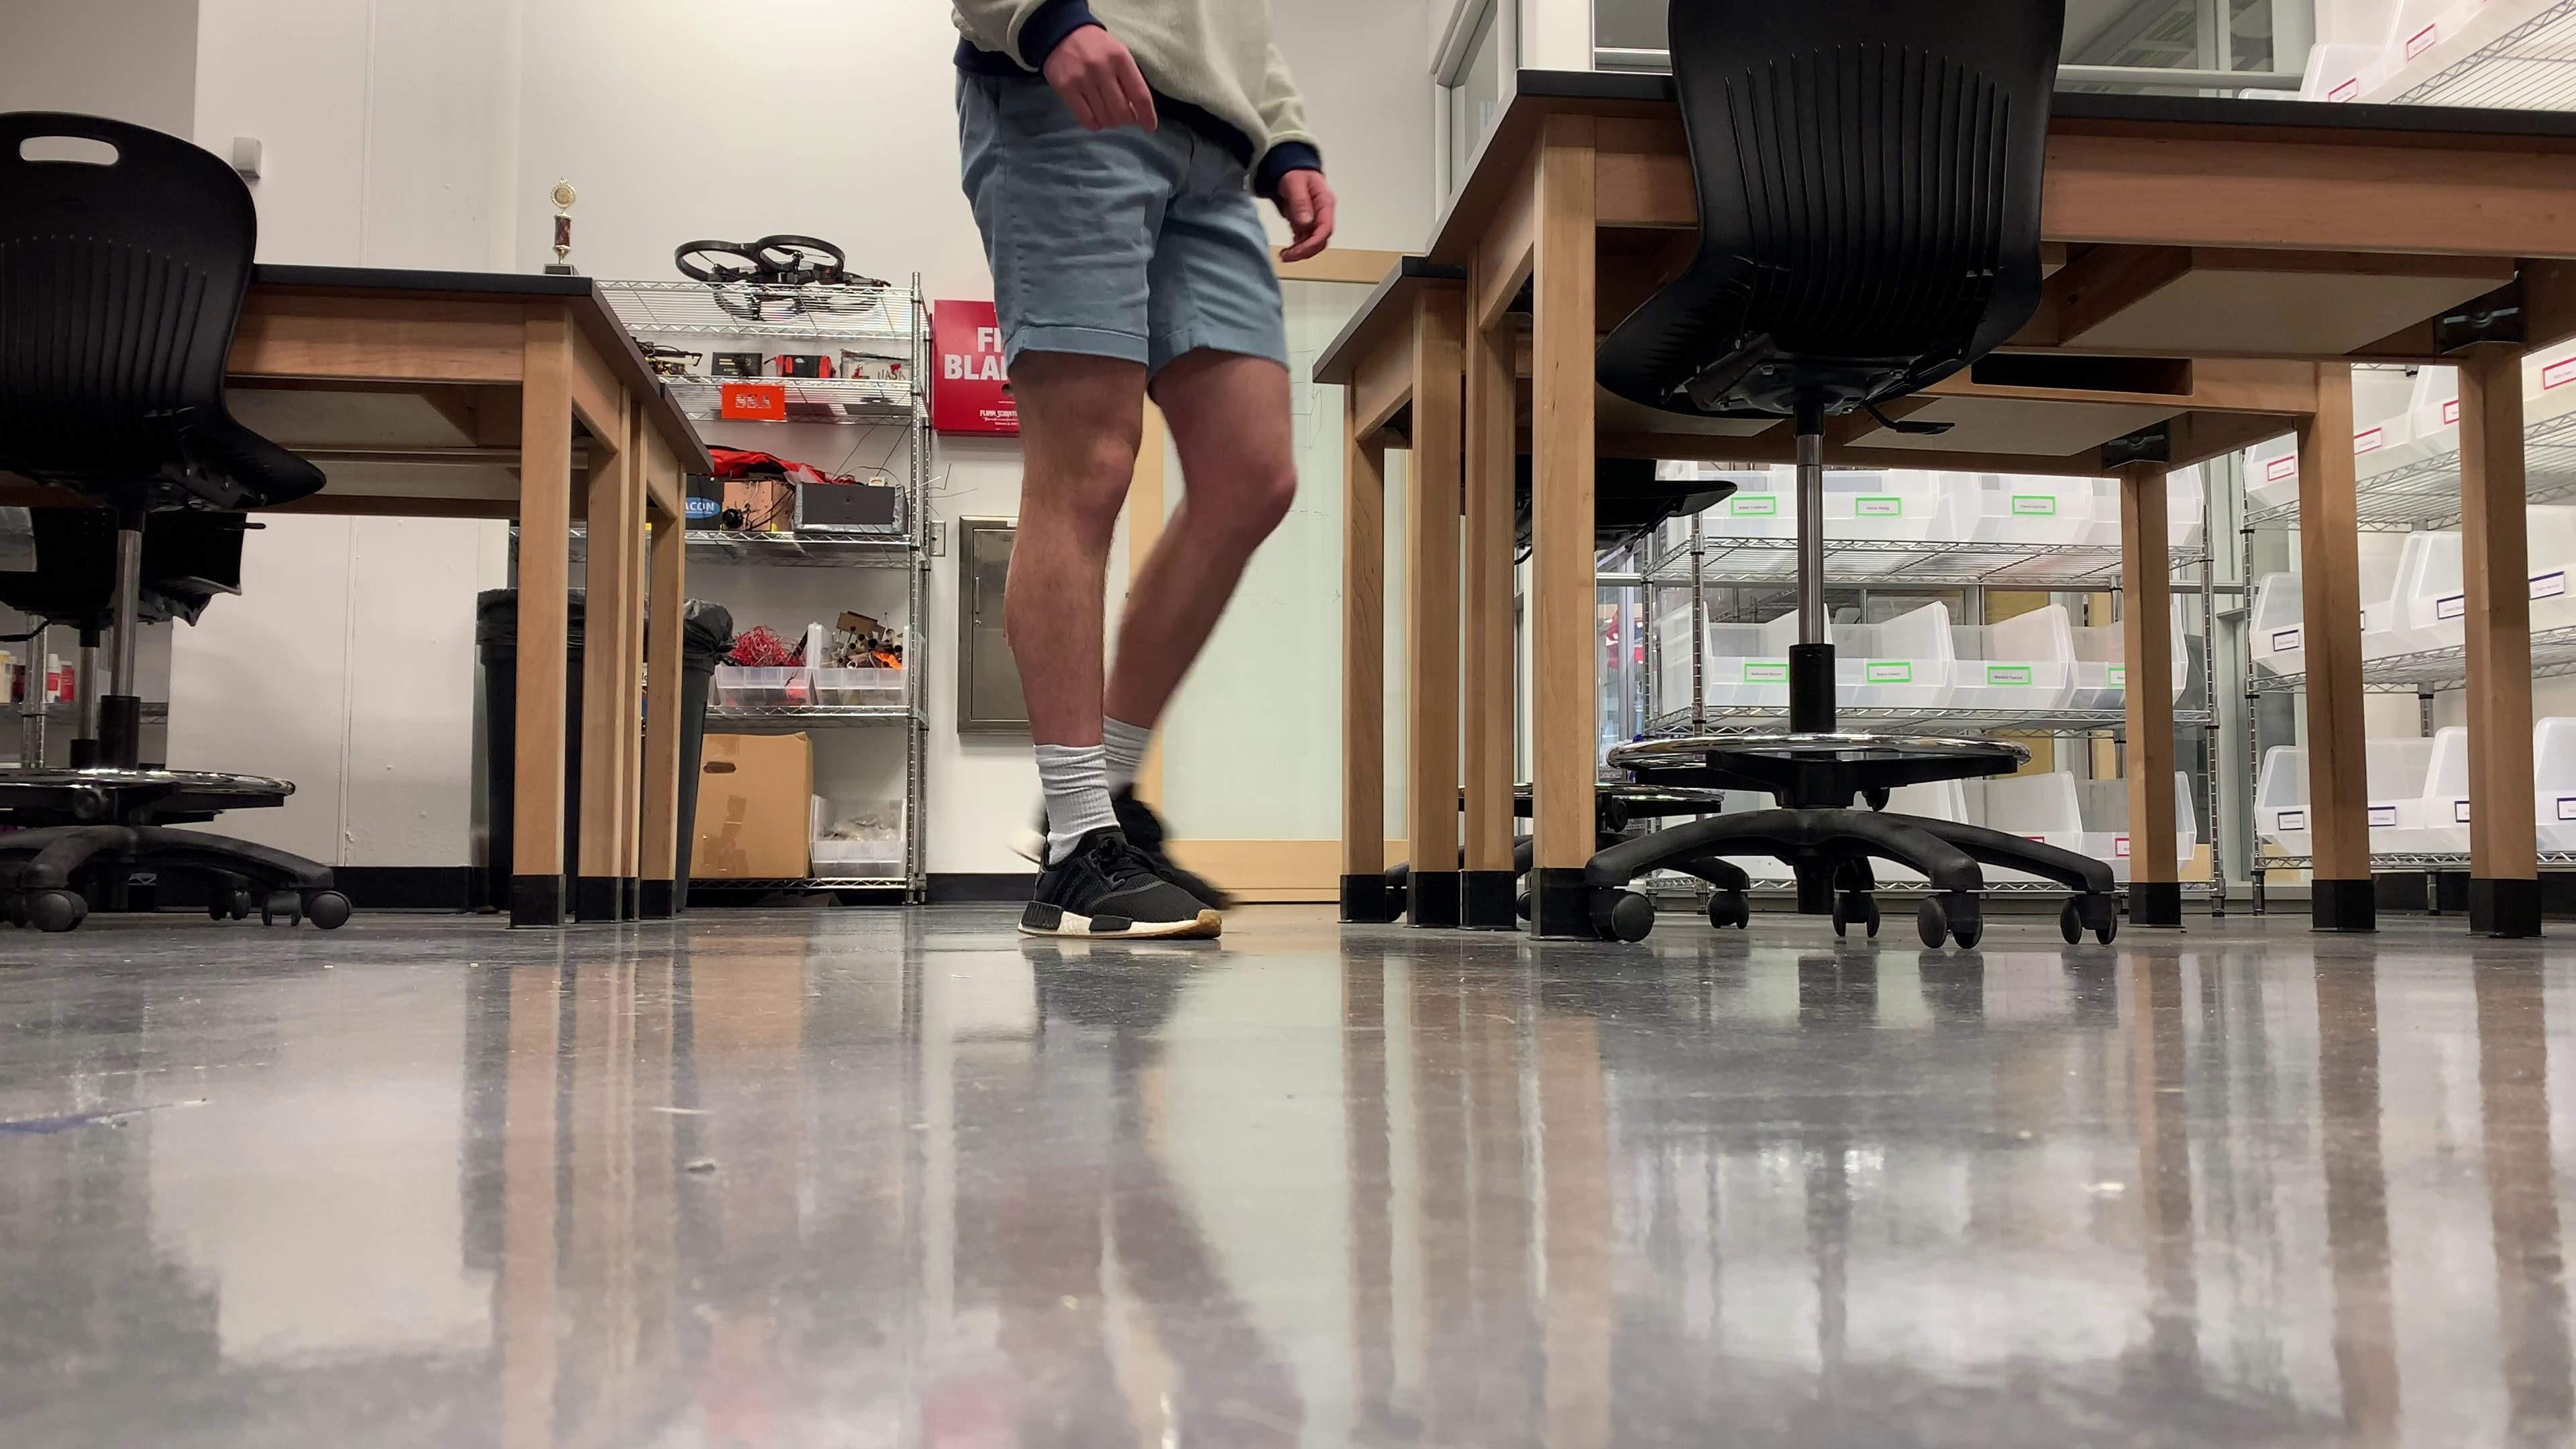shoe: (1019, 826, 1221, 943)
